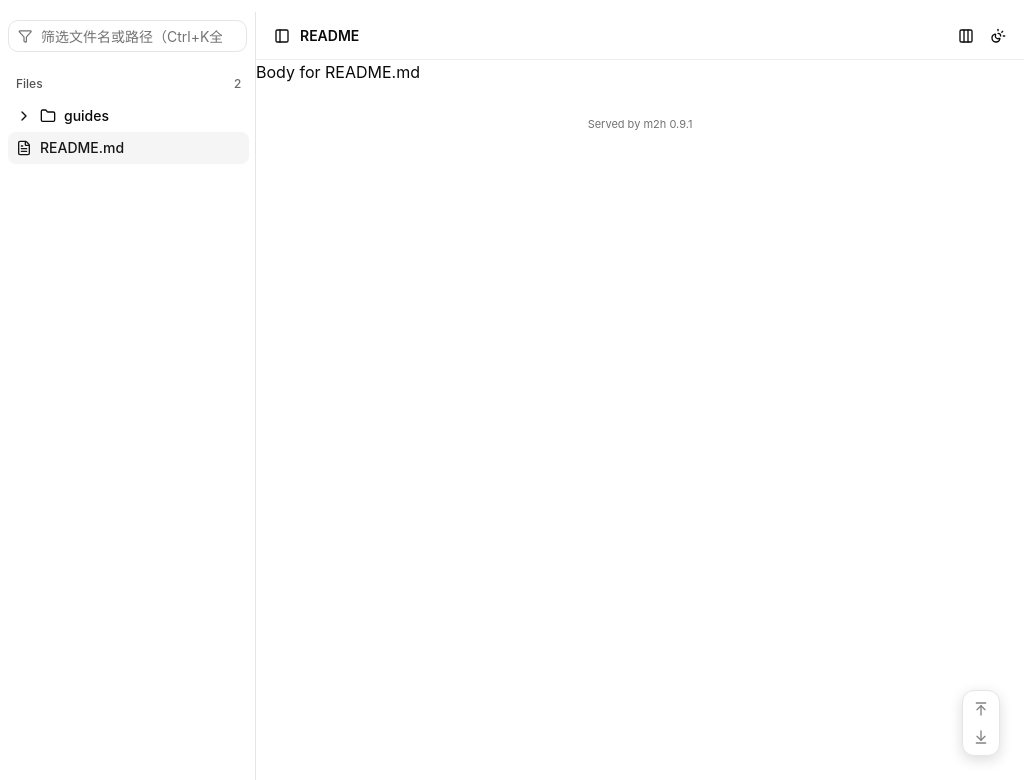
Test: App directory preview › opens no context menu on directory rows and keeps left-click toggling
Expected: the text "Body for README.md" is shown, [256,62,420,82]
Right-click the button "guides".
right_click(129, 116)  # box [8,100,249,132]
Click the button "guides".
click(129, 116)  # box [8,100,249,132]
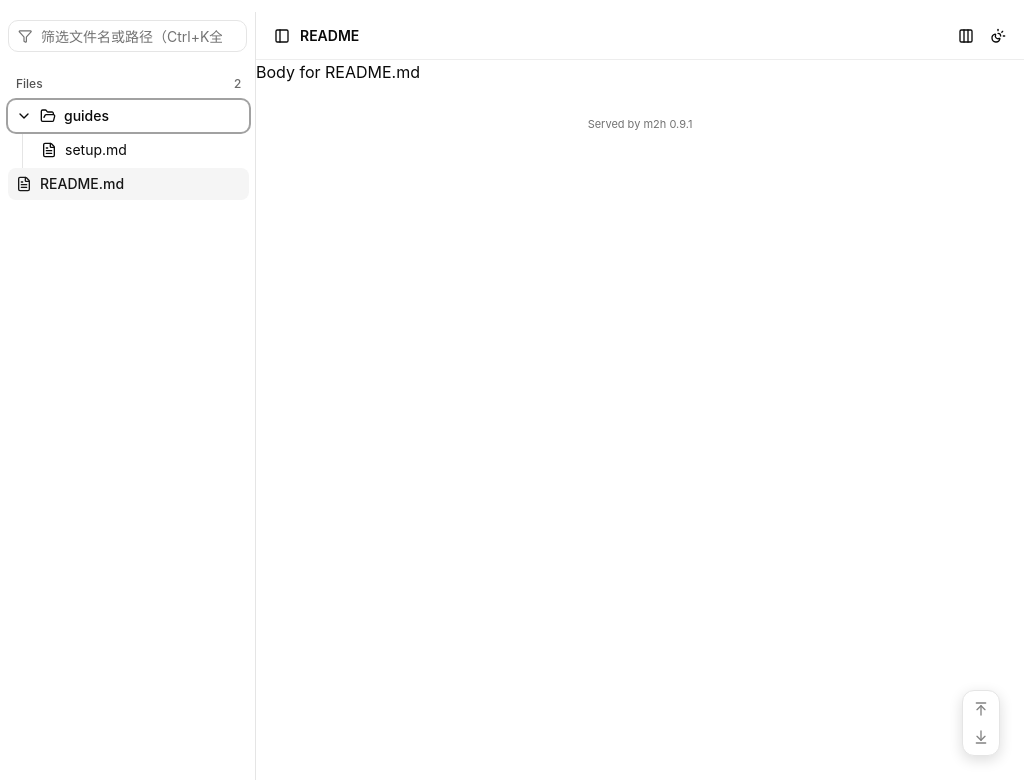
Expected: the text "Body for README.md" is shown, [256,62,420,82]
Expected: the button "guides" is expanded, [8,100,249,132]
